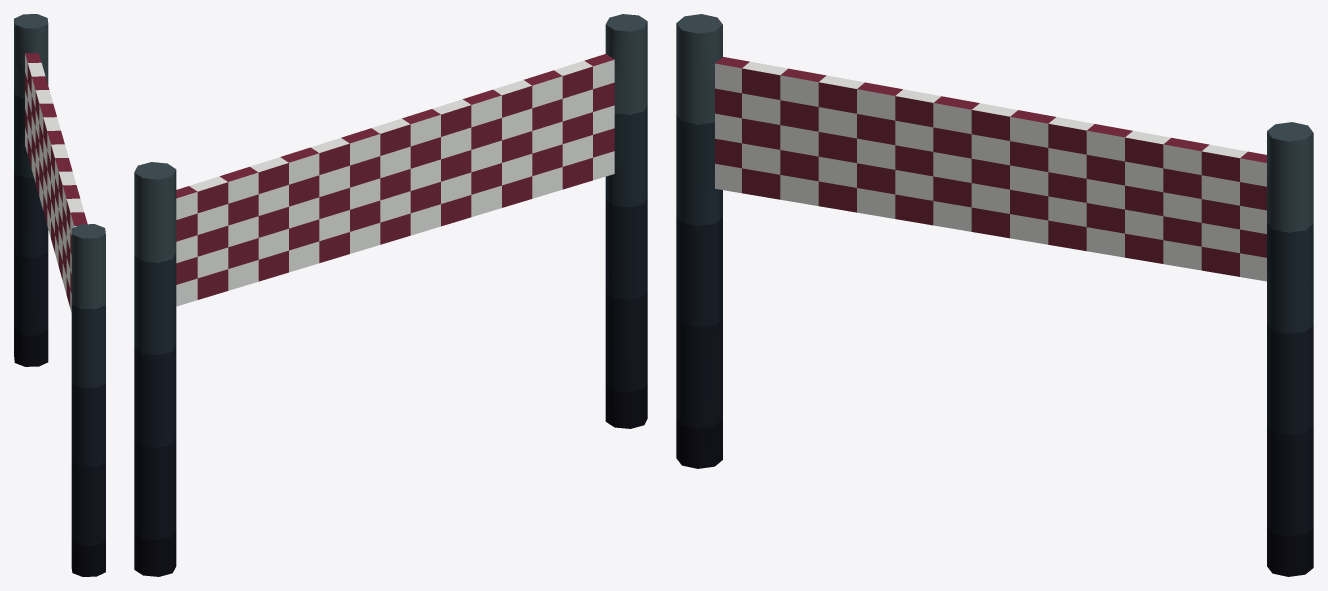
Rendered from checker_flag.fbx.
3 renders of one model, left to right at view 1: azimuth 30°, elevation 25°; view 2: azimuth 150°, elevation 25°; view 3: azimuth 270°, elevation 25°, orthographic. The views are drawn at different scales.
Visible parts, largest first — view 1: Cylinder; view 2: Cylinder; view 3: Cylinder.
Boxes of the visible parts, x1,y1,x2,y2 form: Cylinder: (14, 14, 105, 576); Cylinder: (134, 14, 647, 576); Cylinder: (676, 14, 1313, 576).
Bounding box in the file's own units: 112 × 179 × 237.
